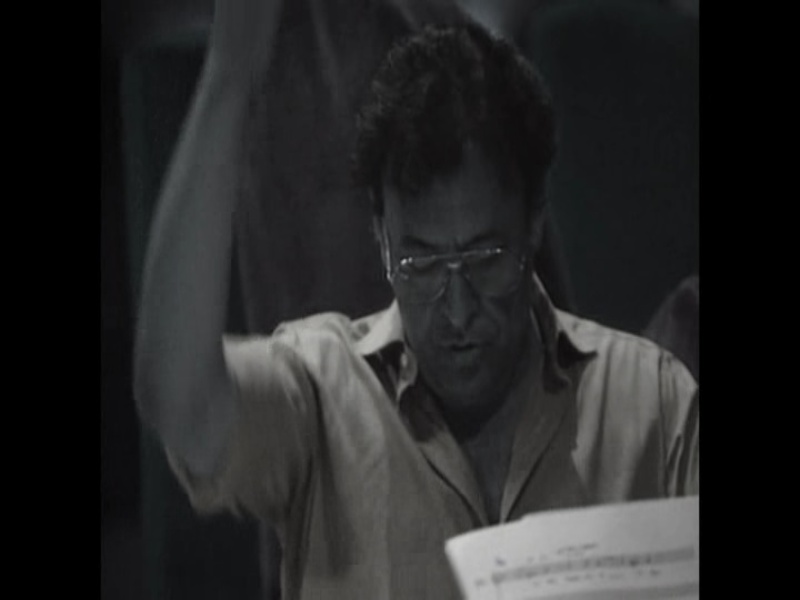TsisyArotava: (344, 82, 568, 419)
